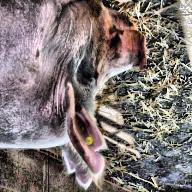boar: (0, 0, 146, 190)
